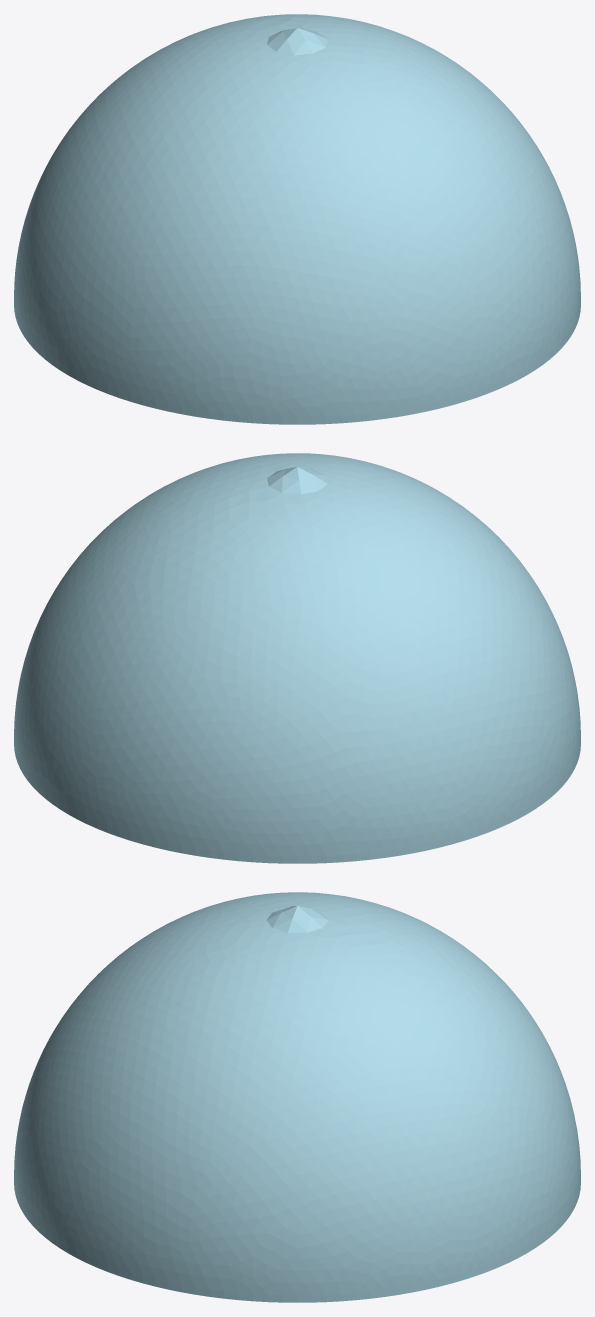
The model's file is manual_lobules_balanced.obj.
The picture shows the model from 3 angles, top to bottom: view 1: azimuth 30°, elevation 25°; view 2: azimuth 150°, elevation 25°; view 3: azimuth 270°, elevation 25°; orthographic projection.
Parts seen in each view (by area): view 1: grp1; view 2: grp1; view 3: grp1.
Boxes of the visible parts, x1,y1,x2,y2 form: grp1: (14, 14, 580, 424); grp1: (14, 453, 580, 863); grp1: (14, 892, 580, 1302).
Size of the model in its own units: 0.14 by 0.0755 by 0.14.
